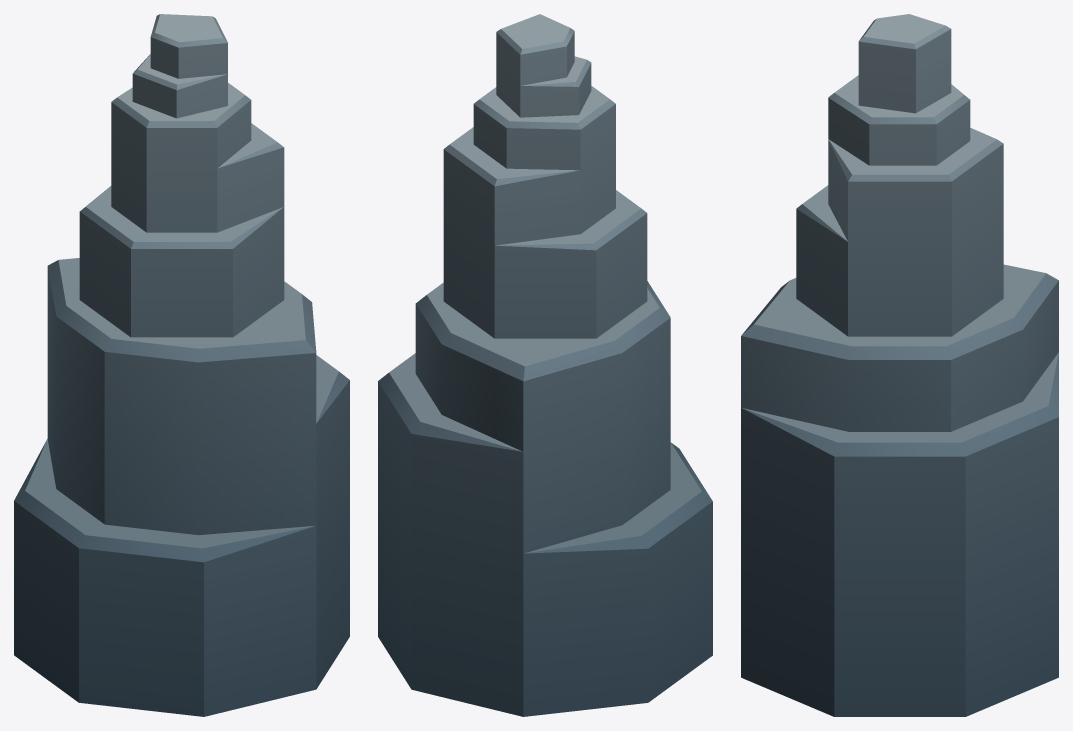
Rendered from Rock_1_O_Color4.fbx.
3 views of the same model, side by side, from view 1: azimuth 30°, elevation 25°; view 2: azimuth 150°, elevation 25°; view 3: azimuth 270°, elevation 25° (orthographic).
Parts seen in each view (by area): view 1: Rock_1_O_Color4; view 2: Rock_1_O_Color4; view 3: Rock_1_O_Color4.
Part boxes in pixels (left/top/right/bottom): Rock_1_O_Color4: left=14, top=14, right=349, bottom=716; Rock_1_O_Color4: left=378, top=14, right=712, bottom=716; Rock_1_O_Color4: left=741, top=14, right=1058, bottom=716.
Size of the model in its own units: 2.11 by 4.58 by 2.11.
